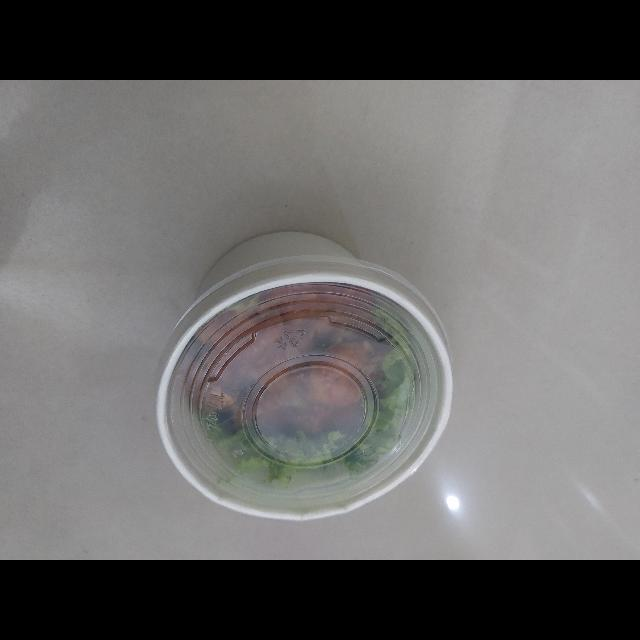rice-bowl: (124, 220, 470, 532)
